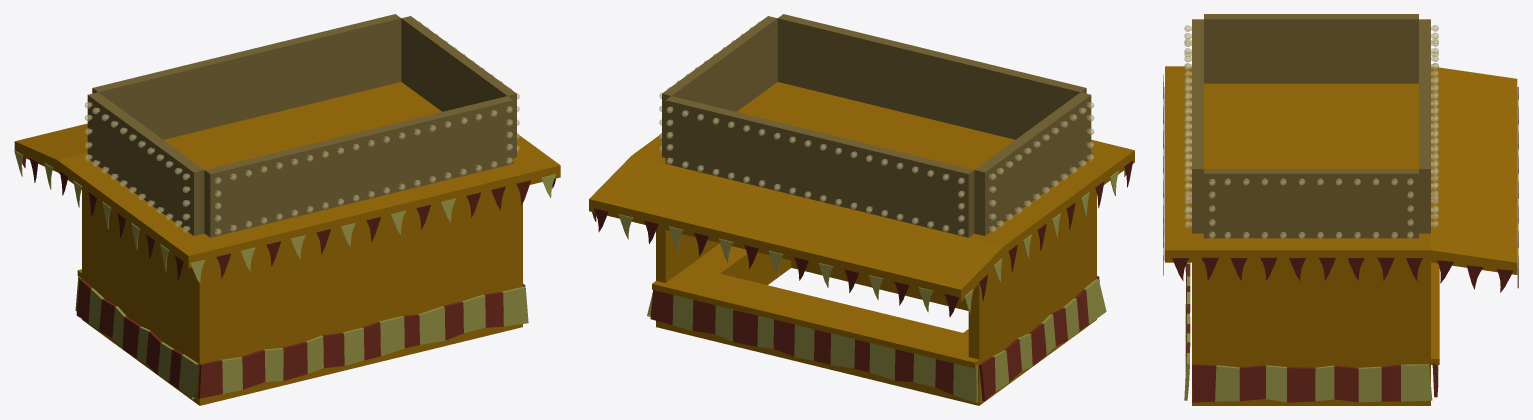
Rendered from BoothProxy.fbx.
The picture shows the model from 3 angles, left to right: view 1: azimuth 30°, elevation 25°; view 2: azimuth 150°, elevation 25°; view 3: azimuth 270°, elevation 25°; orthographic projection.
Visible parts, largest first — view 1: Booth_Frame, Booth_Sign, Skirt_Back, Skirt_RT, Flags; view 2: Booth_Frame, Booth_Sign, Skirt_Front, Skirt_RT, Flags; view 3: Booth_Frame, Booth_Sign, Skirt_LT, Flags, Skirt_Back.
Part boxes in pixels (box(x1,y1,x2,y2)): Booth_Frame: box(14, 82, 560, 405); Booth_Sign: box(87, 14, 516, 237); Skirt_Back: box(198, 286, 528, 398); Skirt_RT: box(76, 278, 198, 399); Flags: box(14, 150, 555, 283); Booth_Frame: box(589, 82, 1134, 405); Booth_Sign: box(662, 14, 1091, 237); Skirt_Front: box(650, 290, 978, 403); Skirt_RT: box(979, 279, 1106, 401); Flags: box(592, 160, 1132, 317); Booth_Frame: box(1165, 66, 1517, 405); Booth_Sign: box(1192, 14, 1430, 238); Skirt_LT: box(1192, 364, 1432, 402); Flags: box(1163, 74, 1518, 292); Skirt_Back: box(1184, 262, 1190, 400).
Bounding box in the file's own units: 705 × 410 × 569.
